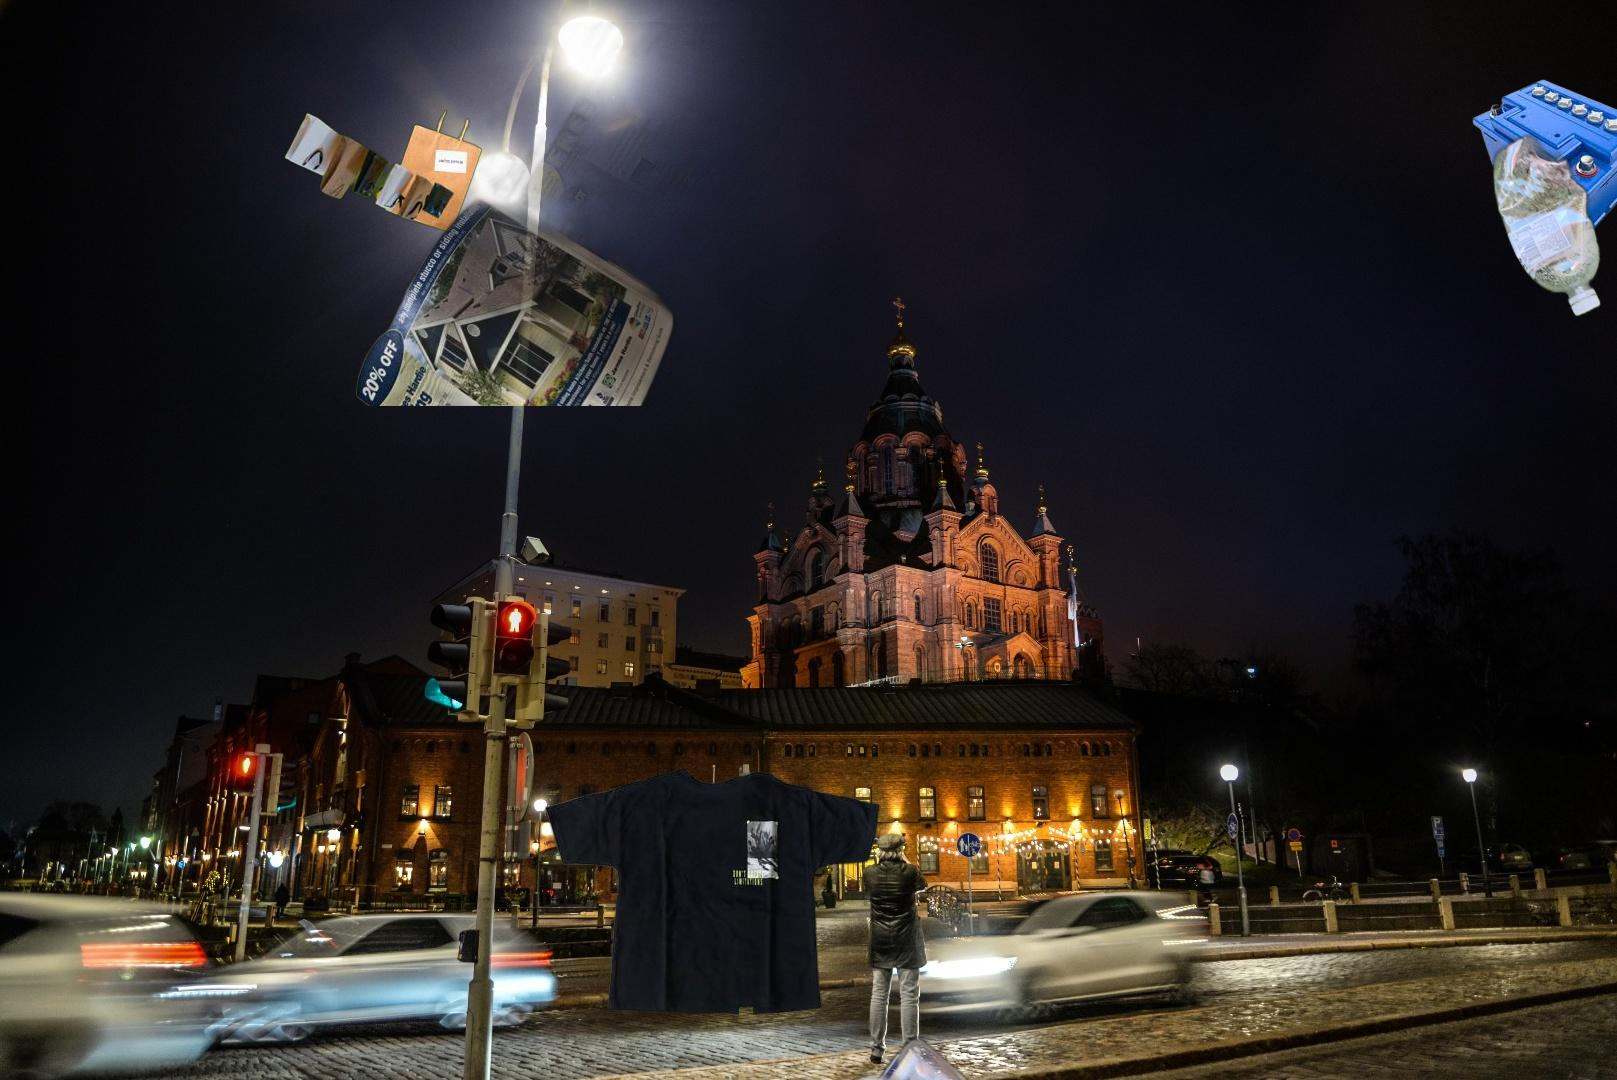battery: (1470, 77, 1617, 247)
clothes: (543, 763, 883, 1026)
paper: (284, 22, 796, 406)
paper-bag: (282, 108, 486, 235)
penholder: (583, 1062, 1383, 1080)
plastic-bottles: (1488, 130, 1605, 323), (782, 1033, 976, 1080)
